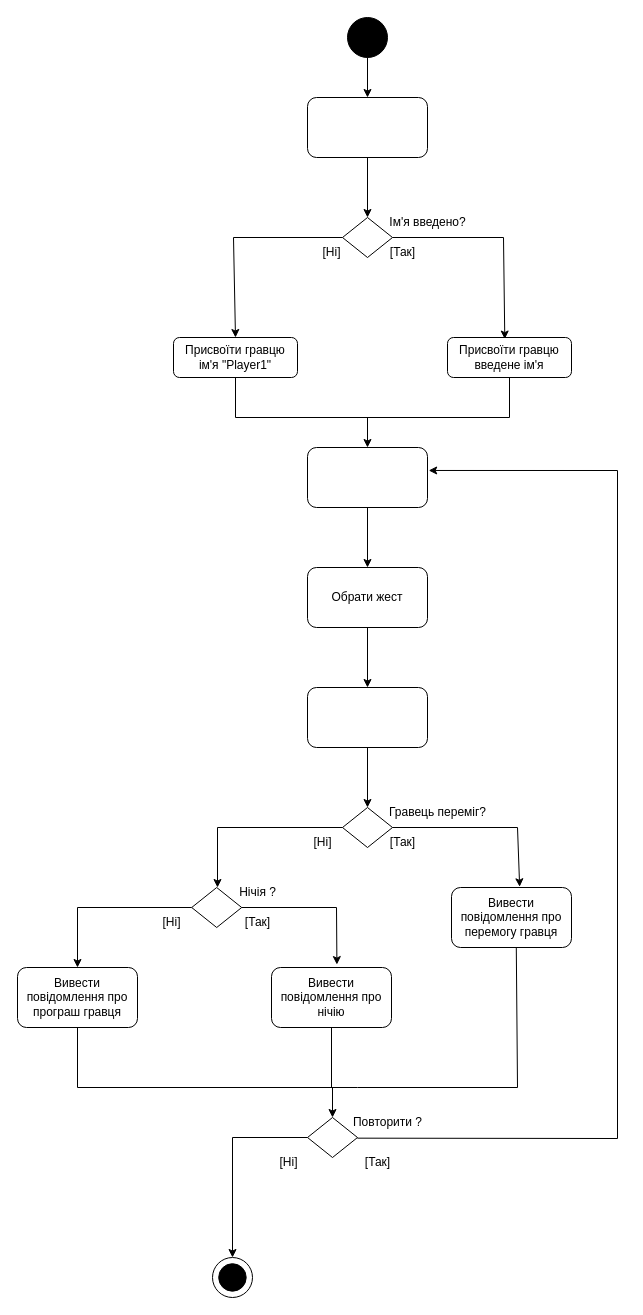
Some shapes in this 643 by 1315 pixel diagram are drawn without their labels. The box of each missing label's shape, as (x1, y1, x2, y2) in pixels:
Авторизація: (306, 96, 428, 158)
Генерувати жест комп'ютера: (306, 686, 428, 748)
Почати гру: (306, 446, 428, 508)
